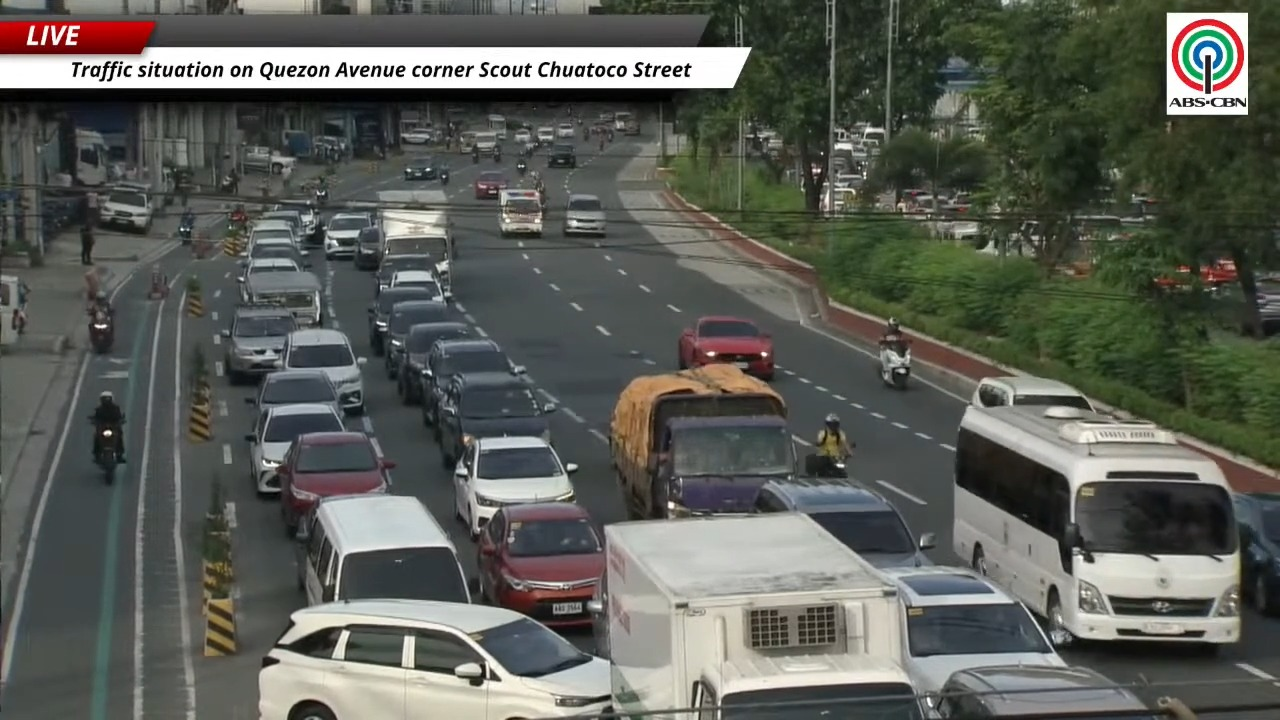bus: (954, 406, 1240, 646), (487, 114, 507, 140)
car: (258, 599, 610, 719), (882, 567, 1065, 692), (753, 477, 935, 567), (477, 502, 604, 626), (453, 437, 577, 539), (276, 431, 394, 537), (926, 665, 1150, 719), (436, 372, 555, 457), (421, 338, 524, 427), (245, 404, 344, 494), (282, 328, 365, 413), (397, 321, 473, 404), (678, 316, 774, 380), (221, 305, 296, 384), (1233, 492, 1279, 615), (384, 300, 455, 378), (368, 286, 442, 356), (971, 376, 1095, 411), (245, 369, 341, 412), (237, 258, 301, 301), (98, 188, 153, 233), (374, 254, 435, 293), (324, 213, 370, 260), (272, 198, 321, 242), (499, 189, 543, 237), (241, 239, 310, 268), (388, 269, 450, 301), (562, 193, 606, 236), (258, 208, 315, 240), (247, 220, 299, 248), (353, 225, 384, 269), (1256, 276, 1279, 335), (473, 171, 508, 198), (590, 611, 610, 658), (403, 156, 439, 180), (547, 143, 576, 168), (400, 127, 436, 145), (474, 131, 500, 155), (536, 126, 555, 144), (513, 128, 532, 144), (556, 122, 575, 138), (597, 111, 614, 123)
motorcycle: (90, 416, 119, 484), (879, 339, 911, 389), (804, 453, 847, 478), (89, 310, 113, 354), (177, 217, 194, 244), (219, 174, 237, 193), (314, 187, 329, 206), (537, 185, 546, 210), (516, 159, 527, 176), (438, 169, 449, 185), (493, 148, 501, 162), (598, 136, 605, 151), (473, 148, 479, 163), (606, 130, 613, 142), (584, 128, 590, 140)
truck: (588, 513, 921, 719), (609, 364, 795, 518), (377, 190, 455, 289), (241, 145, 296, 174)
